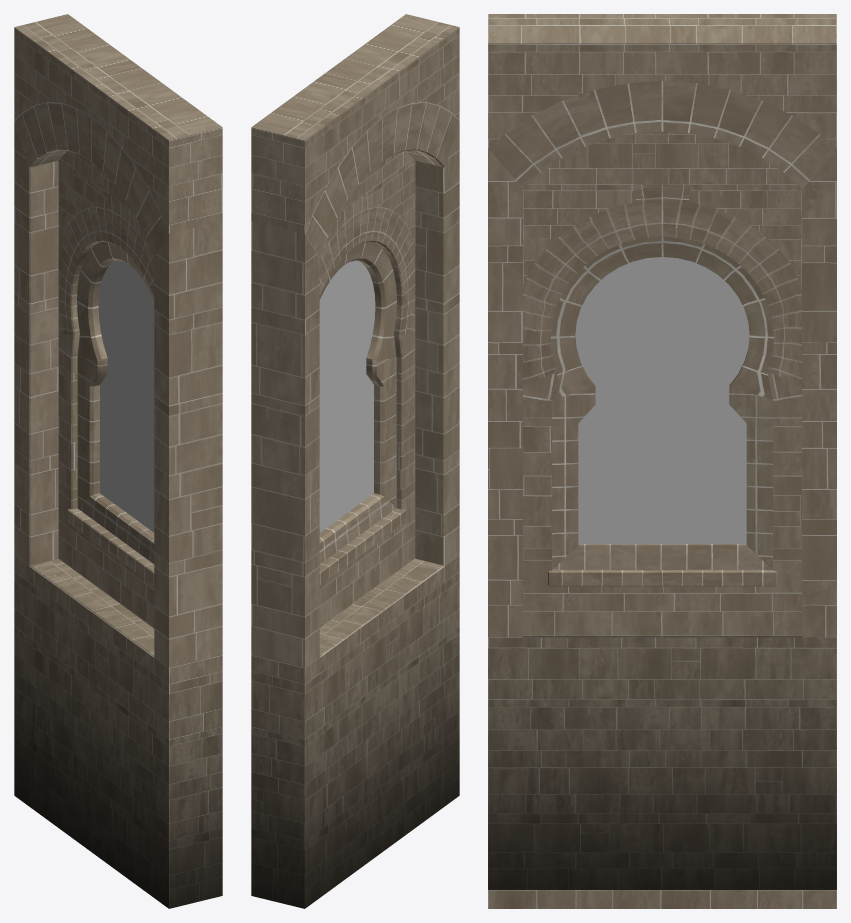
Rendered from WallWindow.fbx.
3 views of the same model, side by side, from view 1: azimuth 30°, elevation 25°; view 2: azimuth 150°, elevation 25°; view 3: azimuth 270°, elevation 25° (orthographic). The views are drawn at different scales.
Visible parts, largest first — view 1: WallWindow, GlassInner; view 2: WallWindow, GlassInner; view 3: WallWindow, GlassOuter.
Boxes of the visible parts, x1,y1,x2,y2 form: WallWindow: (14, 14, 222, 908); GlassInner: (98, 260, 154, 532); WallWindow: (251, 14, 459, 908); GlassInner: (319, 260, 375, 532); WallWindow: (488, 14, 836, 908); GlassOuter: (575, 257, 749, 543).
Size of the model in its own units: 100 by 1369 by 500.
